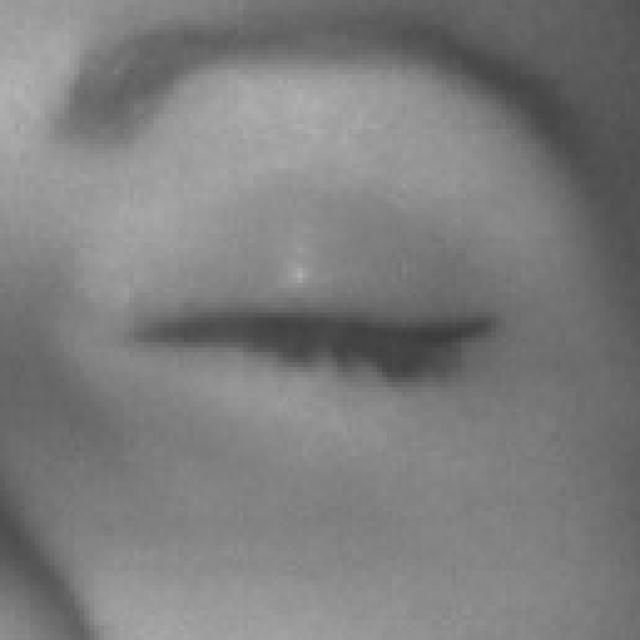close: (35, 0, 635, 546)
